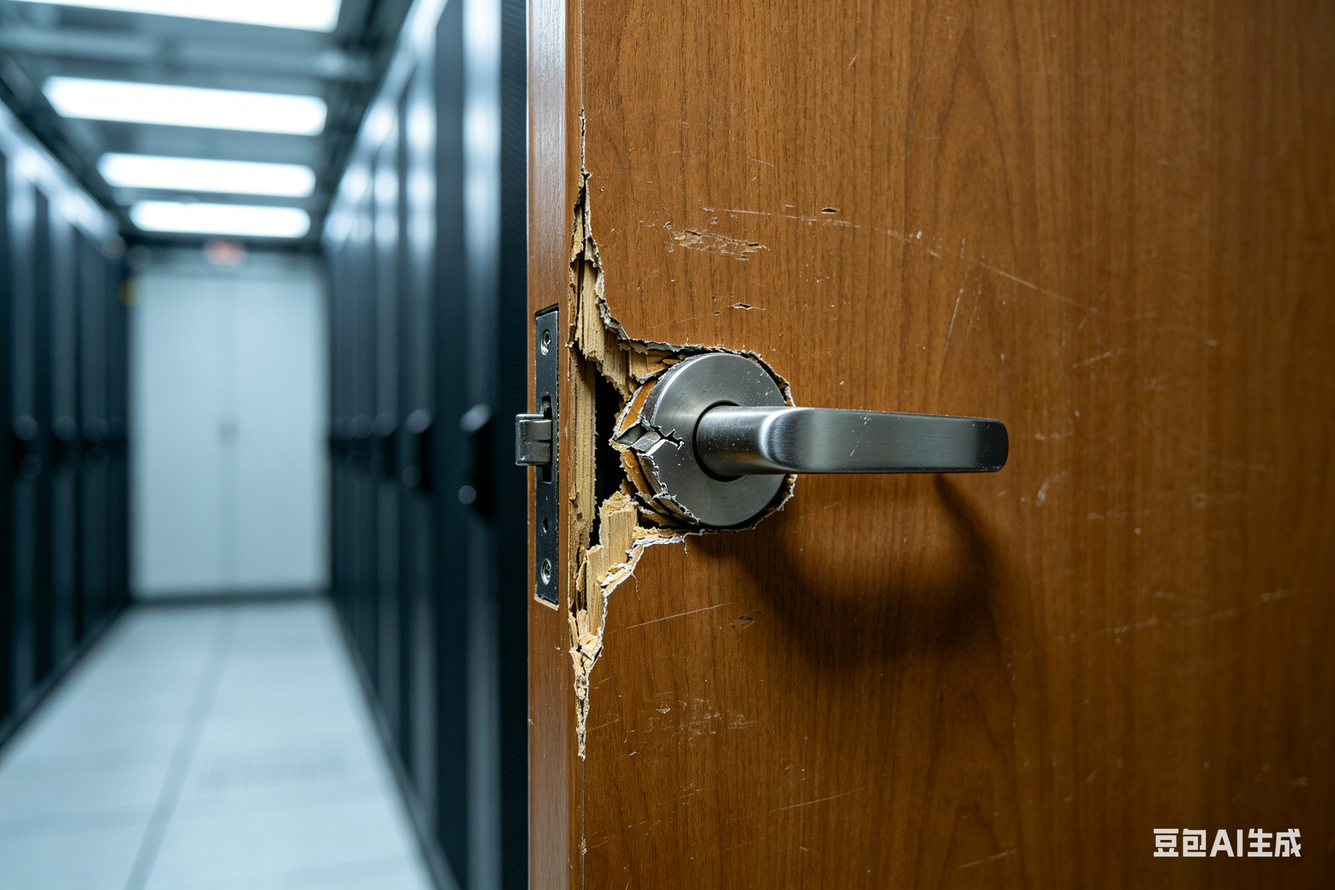BadLock: (547, 169, 700, 742)
